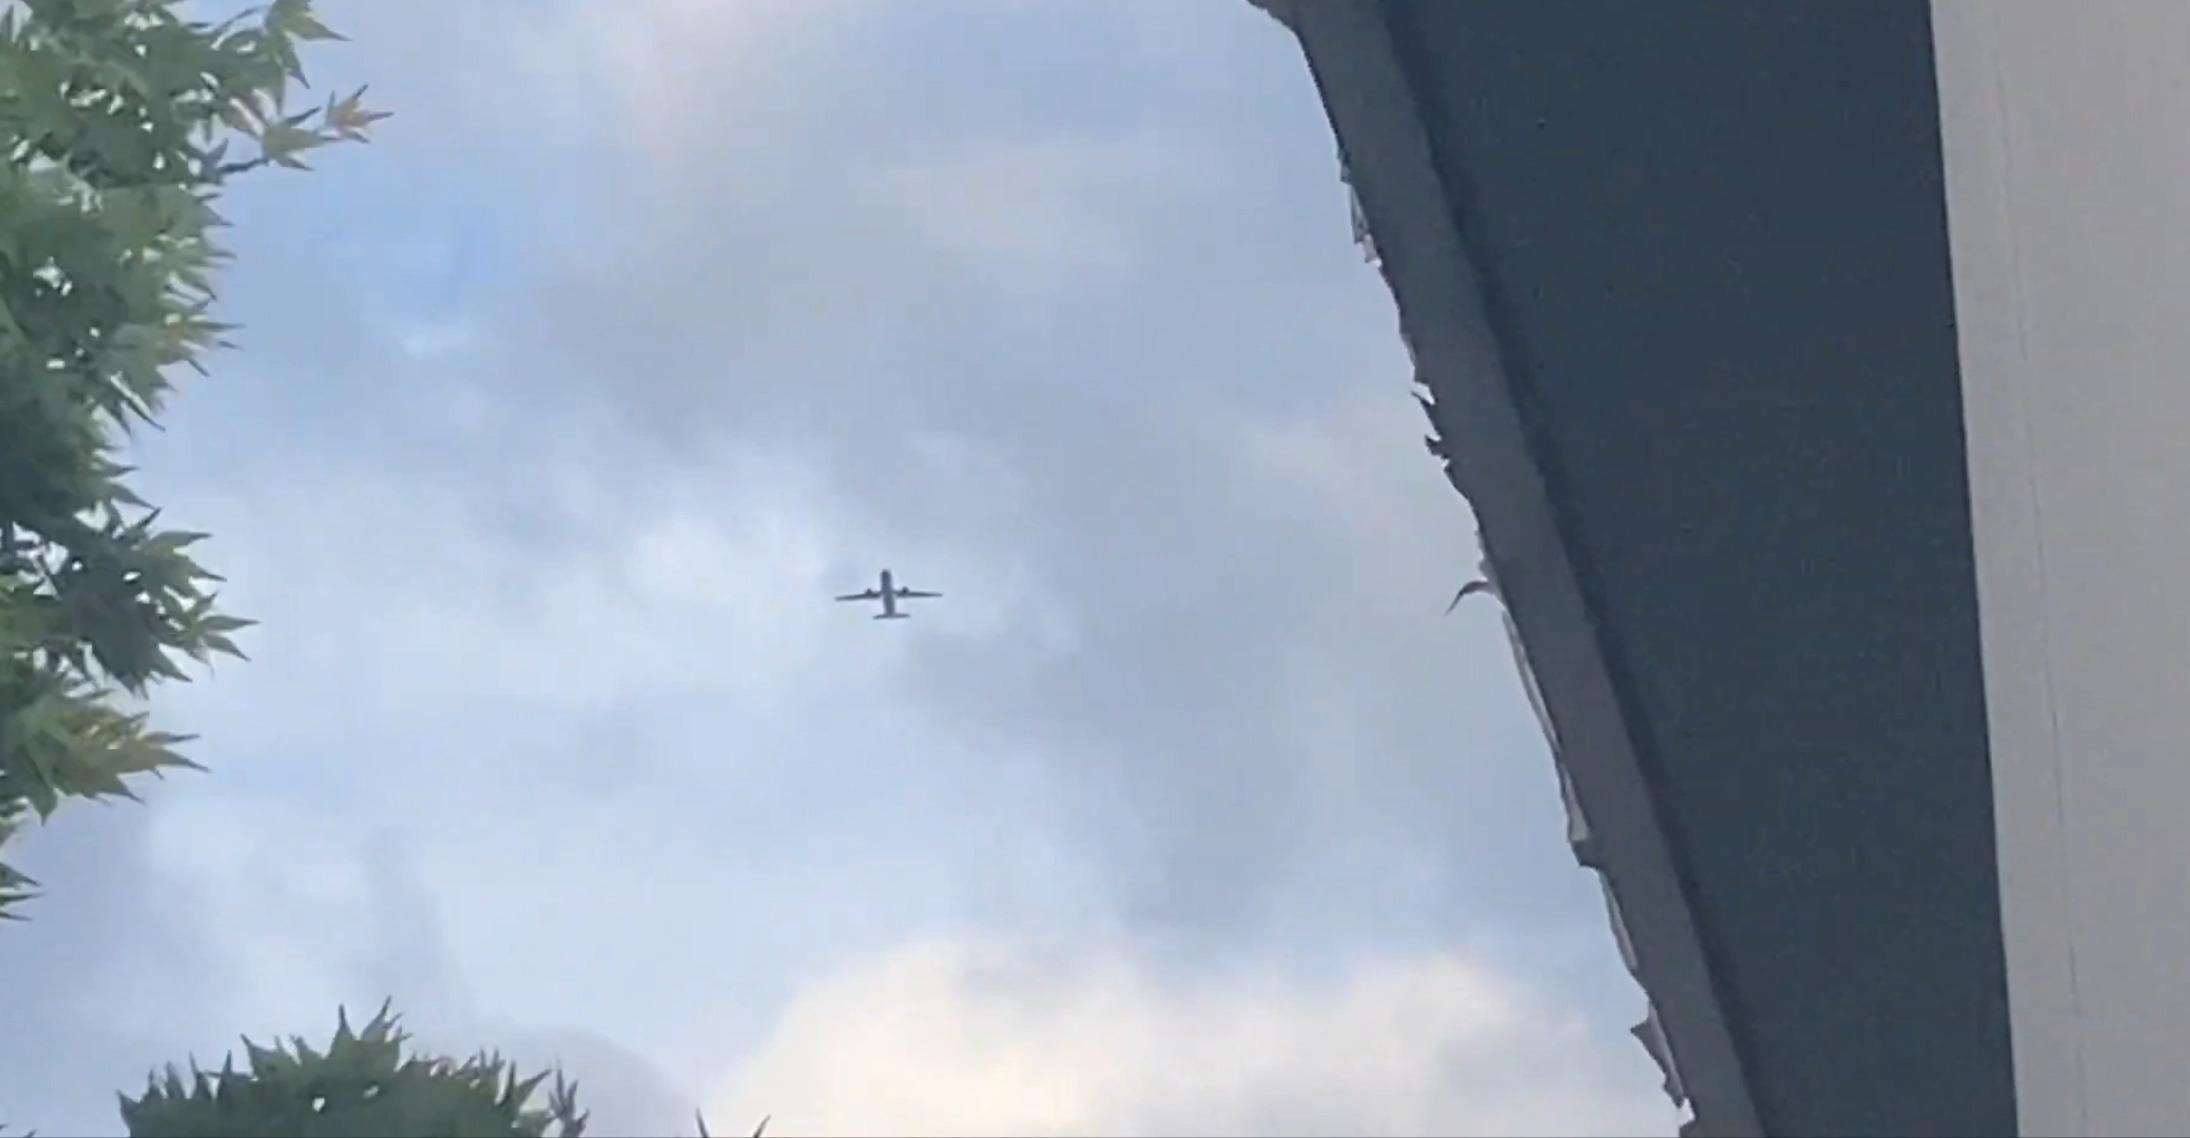Plane: (800, 552, 978, 638)
